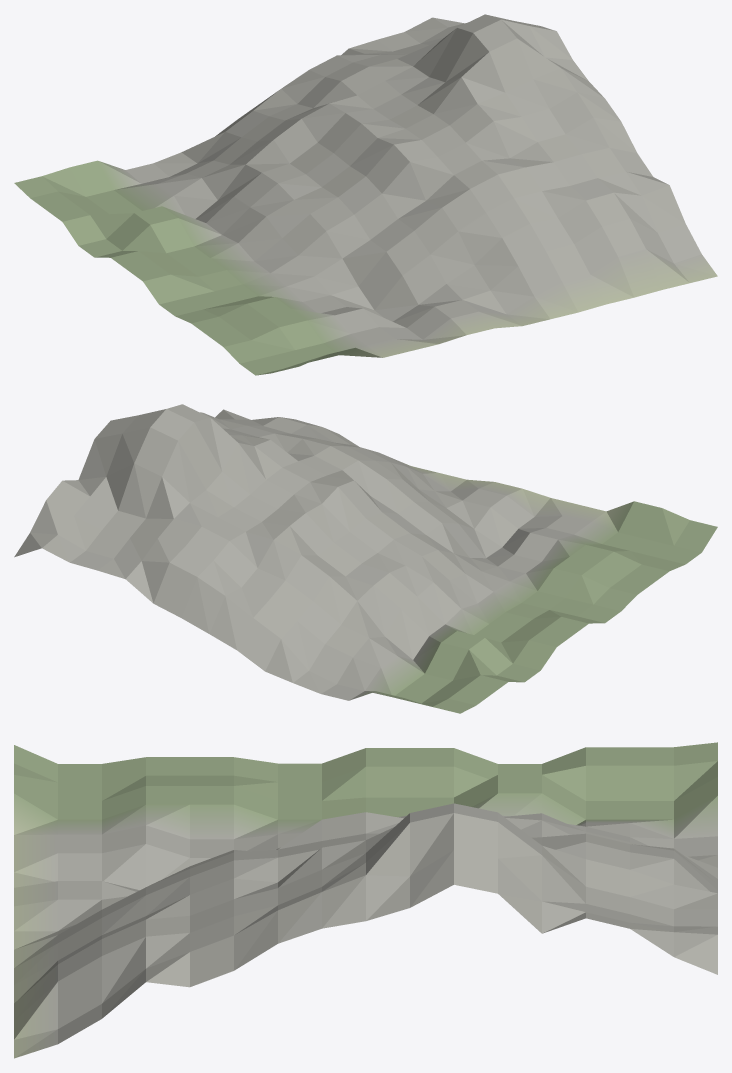
3 renders of one model, top to bottom at view 1: azimuth 30°, elevation 25°; view 2: azimuth 150°, elevation 25°; view 3: azimuth 270°, elevation 25°, orthographic. The views are drawn at different scales.
Bounding box in the file's own units: 32 × 11.41 × 32.
